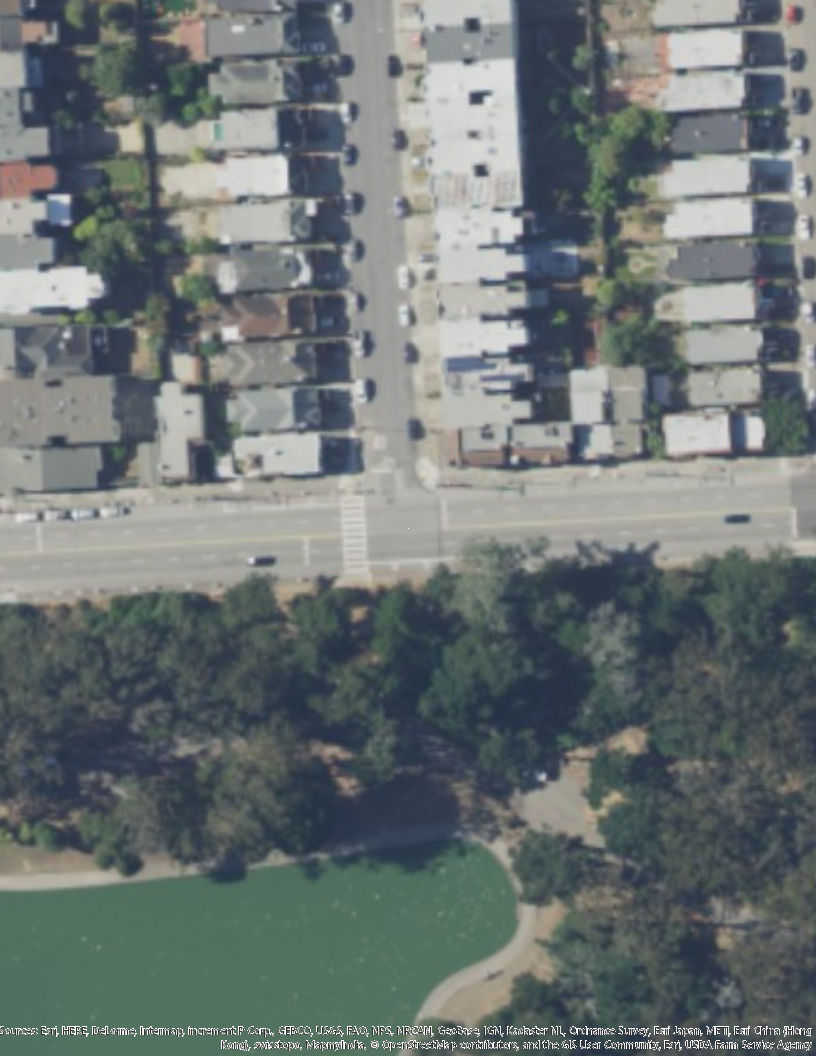zebracross: (339, 496, 369, 574)
